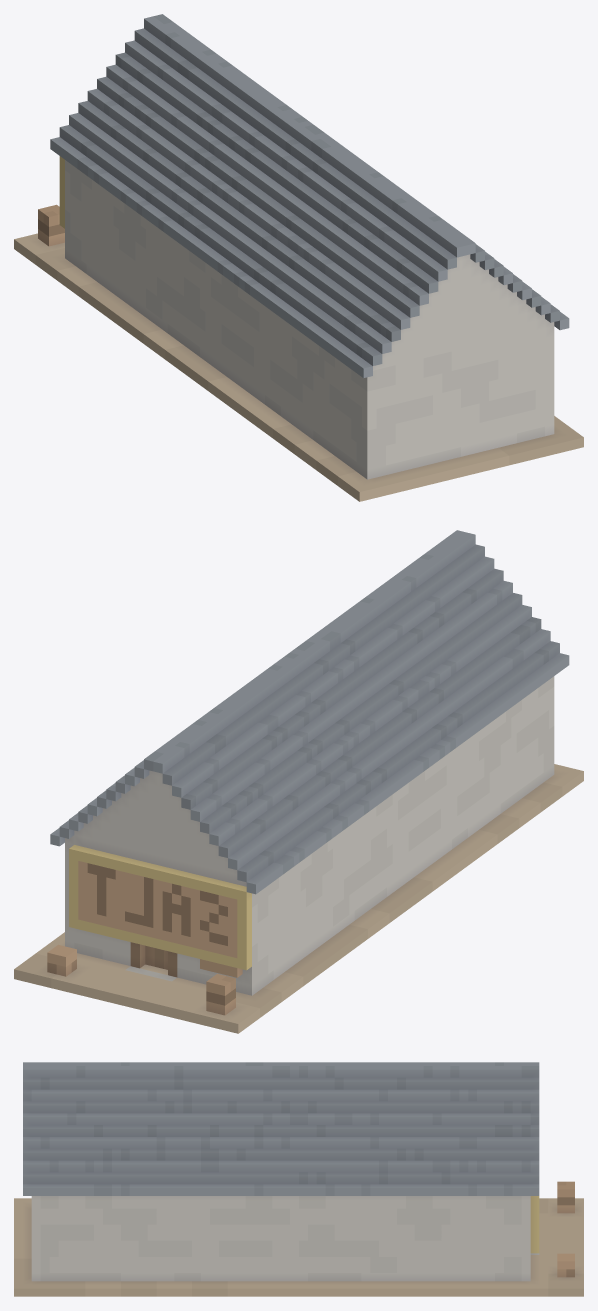
Rendered from salt_mine.glb.
3 renders of one model, top to bottom at view 1: azimuth 30°, elevation 25°; view 2: azimuth 150°, elevation 25°; view 3: azimuth 270°, elevation 25°, orthographic. The views are drawn at different scales.
Parts seen in each view (by area): view 1: salt_mine; view 2: salt_mine; view 3: salt_mine.
Boxes of the visible parts, x1,y1,x2,y2 form: salt_mine: (14, 14, 583, 501); salt_mine: (14, 530, 583, 1033); salt_mine: (14, 1062, 583, 1296).
Size of the model in its own units: 3 by 2.88 by 8.
